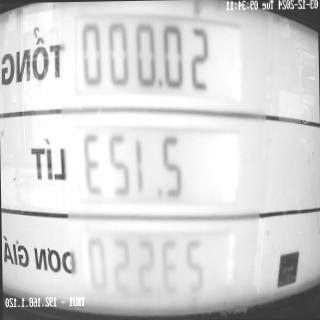screen: (68, 5, 252, 308)
